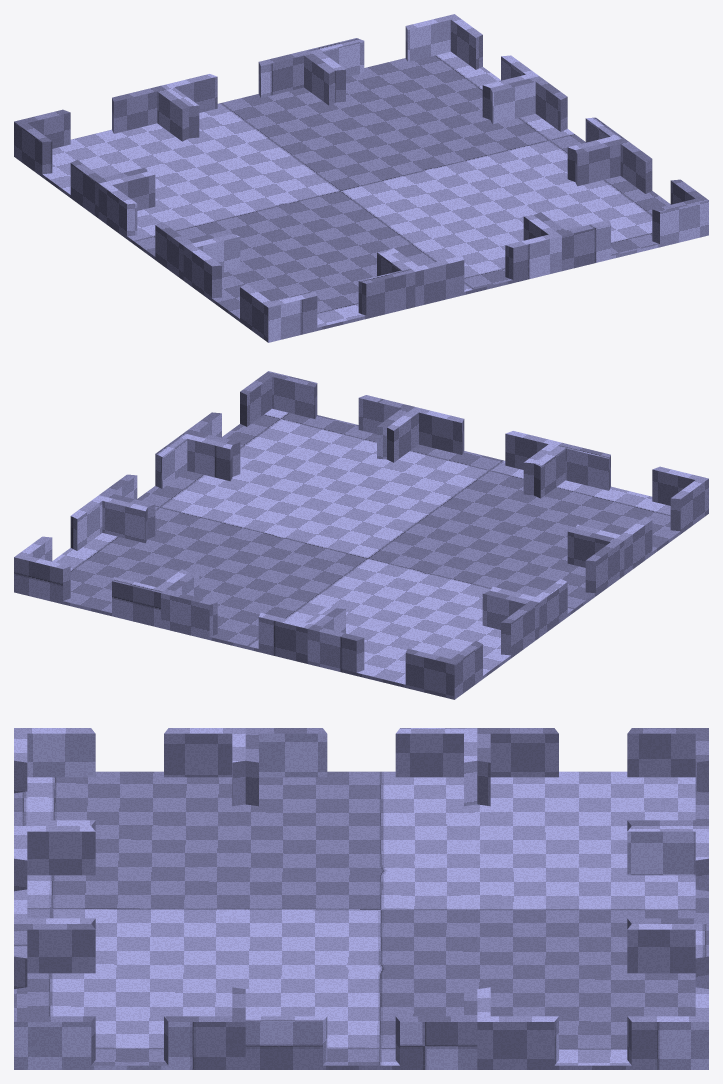
The model's file is Room3x3.glb.
3 views of the same model, one above another, from view 1: azimuth 30°, elevation 25°; view 2: azimuth 150°, elevation 25°; view 3: azimuth 270°, elevation 25° (orthographic). The views are drawn at different scales.
Parts seen in each view (by area): view 1: Cube.008; view 2: Cube.008; view 3: Cube.008.
Part boxes in pixels (x1=…): Cube.008: x1=14, y1=14, x2=708, y2=342; Cube.008: x1=14, y1=371, x2=708, y2=699; Cube.008: x1=14, y1=728, x2=708, y2=1069.
Bounding box in the file's own units: 3 × 0.2288 × 3.
Materials: 1 (1 with a texture image).
